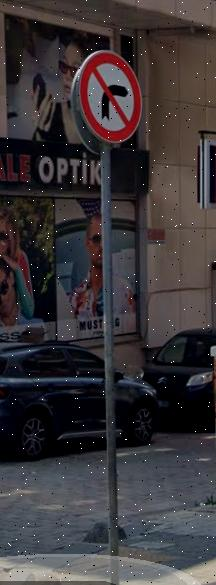rightturnsareforbidden: (77, 48, 141, 143)
